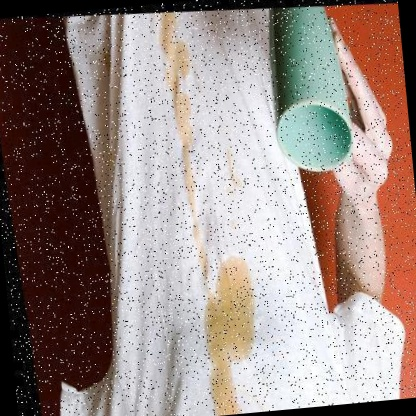coffee: (198, 256, 261, 366), (174, 94, 201, 212), (156, 15, 198, 90), (210, 369, 237, 416)
